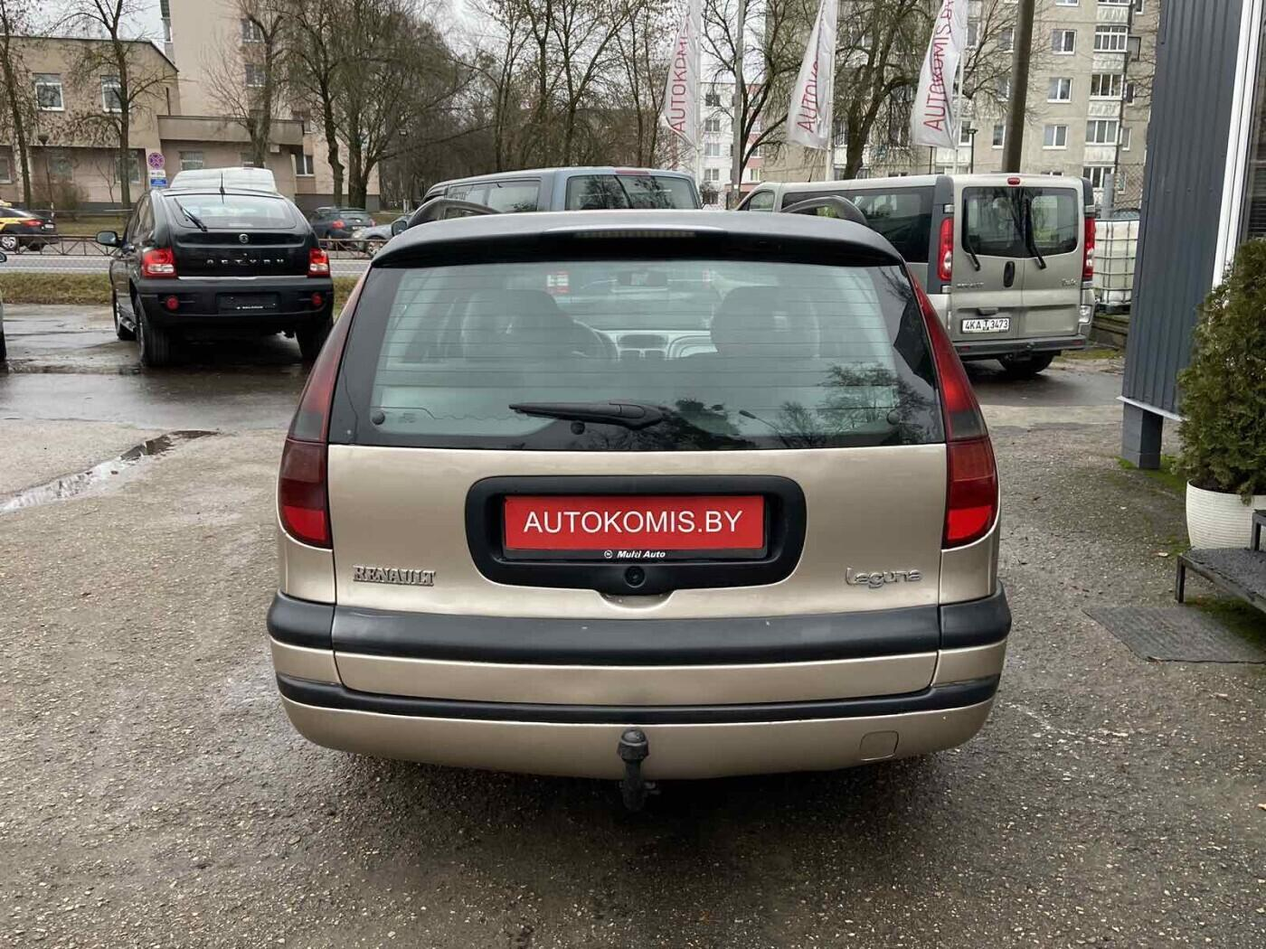Laguna_1998-2001: (261, 207, 1012, 824)
